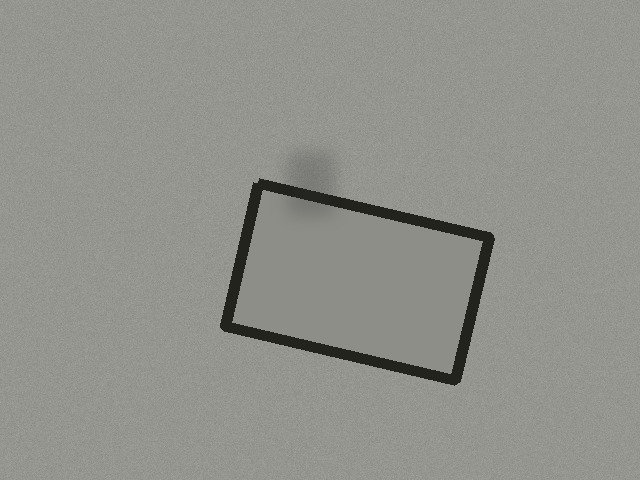parking_area: (225, 183, 489, 380)
